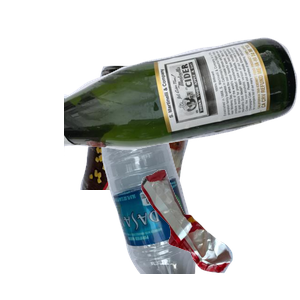glass: (64, 35, 300, 181)
metal: (78, 63, 266, 243)
plastic: (99, 120, 289, 300)
trash: (139, 167, 300, 300)
